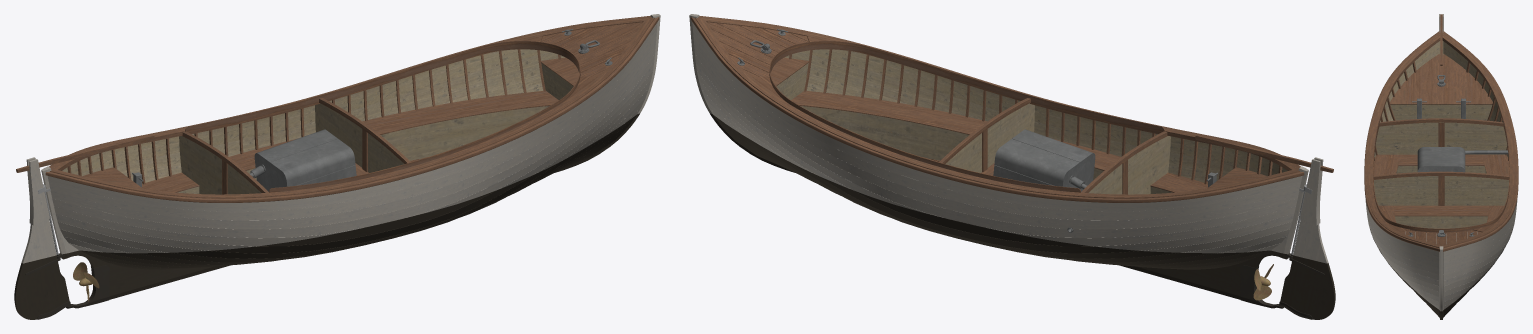
3 views of the same model, side by side, from view 1: azimuth 30°, elevation 25°; view 2: azimuth 150°, elevation 25°; view 3: azimuth 270°, elevation 25° (orthographic). The views are drawn at different scales.
Visible parts, largest first — view 1: 26ft_MotorWhaleboat; view 2: 26ft_MotorWhaleboat; view 3: 26ft_MotorWhaleboat.
Boxes of the visible parts, bbox=[...] form: 26ft_MotorWhaleboat: bbox=[14, 14, 660, 319]; 26ft_MotorWhaleboat: bbox=[689, 14, 1335, 319]; 26ft_MotorWhaleboat: bbox=[1364, 14, 1518, 319].
Size of the model in its own units: 8.4 by 2 by 2.33.
8 materials, 8 textured.
